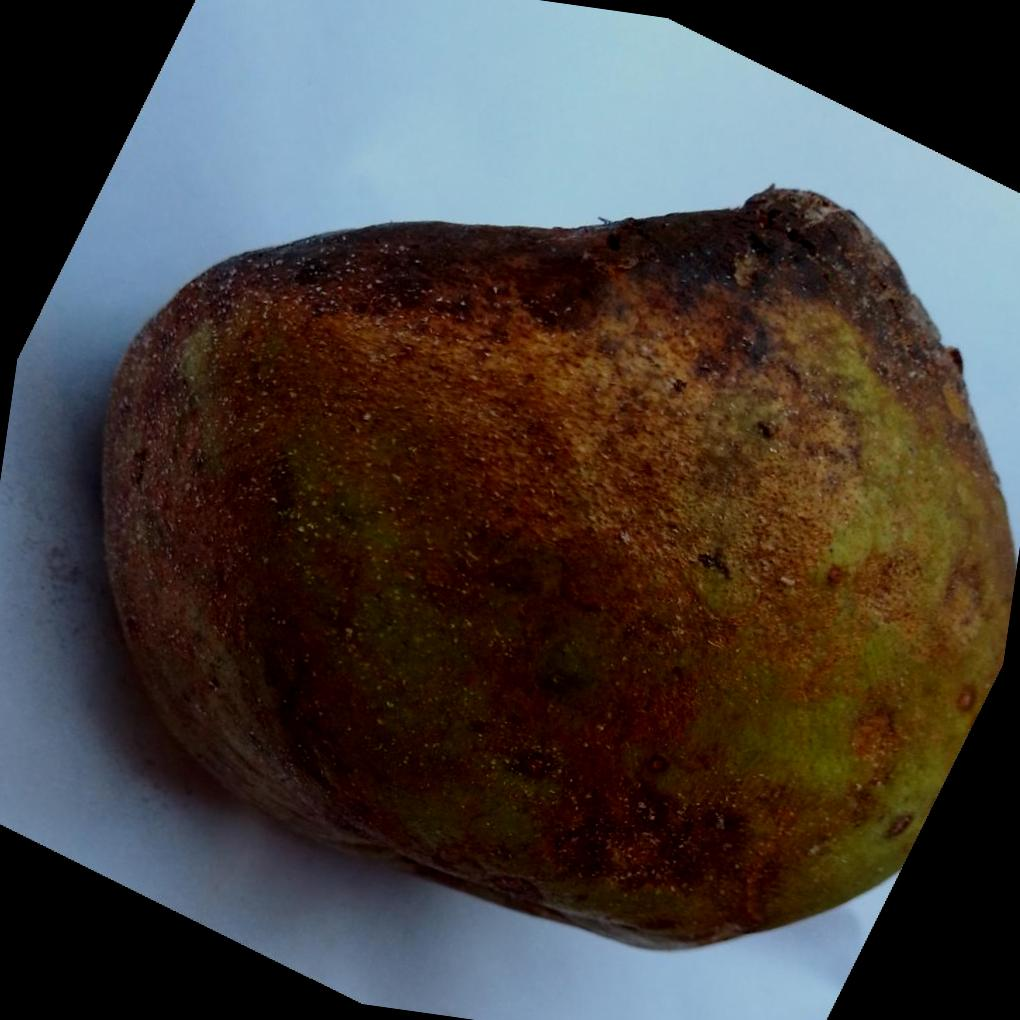FreshOrange: (98, 180, 1019, 950)
